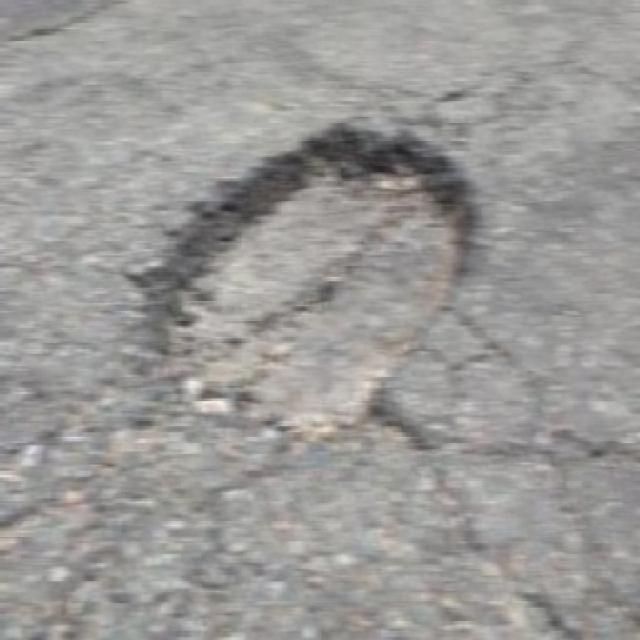Pothole: (128, 111, 500, 466)
